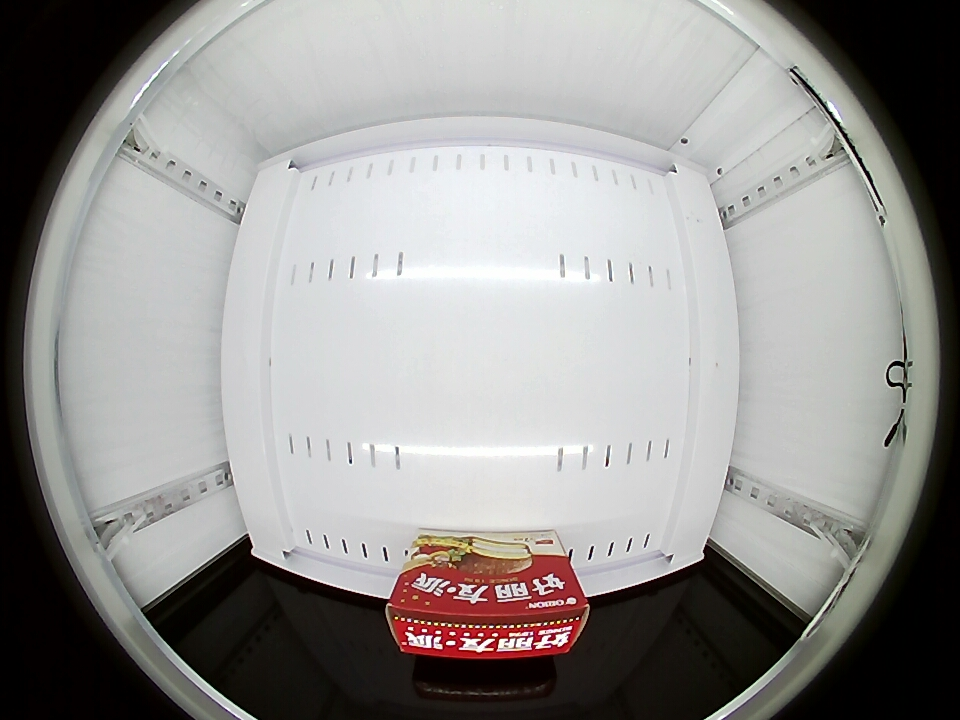haoliyou: (386, 551, 590, 659)
